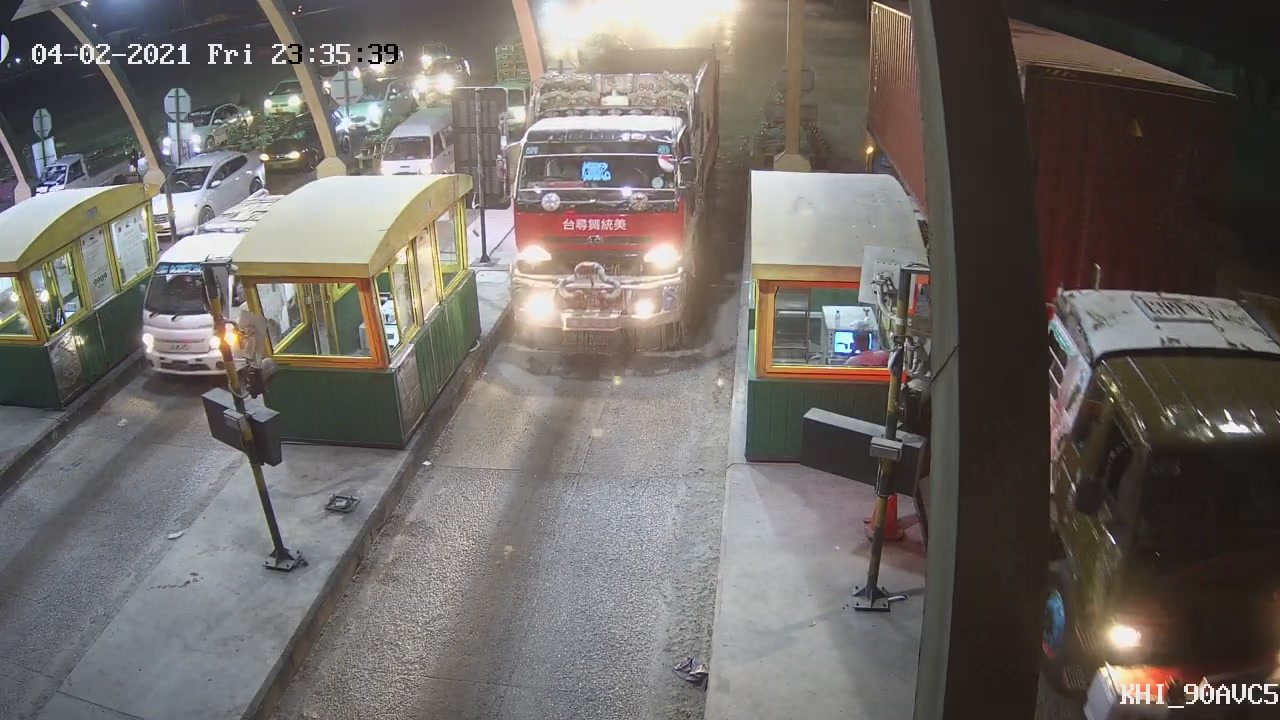F5: (485, 41, 720, 356)
